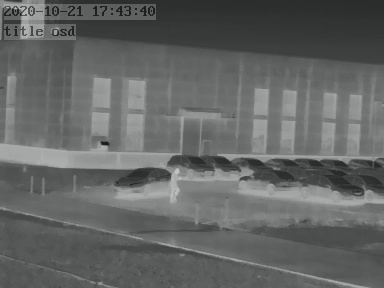person: (168, 167, 181, 204)
vehicle: (113, 164, 181, 194), (299, 173, 364, 204), (238, 169, 302, 191), (166, 152, 215, 179), (203, 153, 243, 178), (349, 173, 382, 200), (232, 154, 270, 172), (347, 156, 381, 171), (261, 155, 296, 169), (318, 156, 348, 170), (295, 156, 324, 169)
